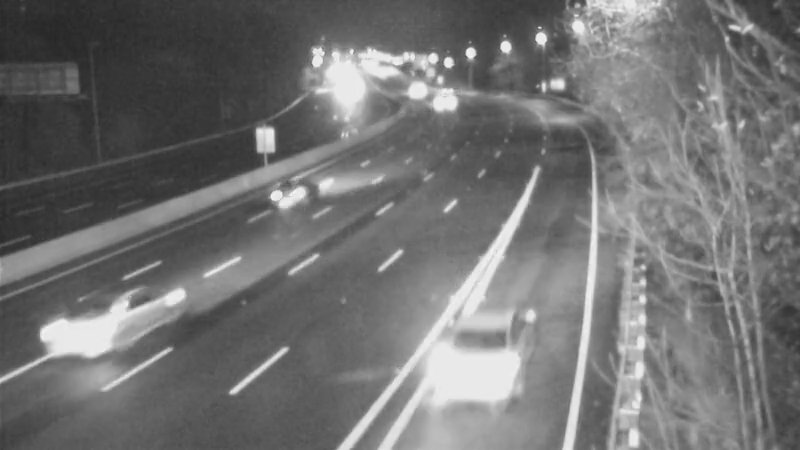vehicle: (33, 266, 143, 376), (423, 316, 533, 426), (248, 157, 328, 237), (422, 68, 472, 118), (391, 64, 441, 114), (415, 77, 465, 127)
